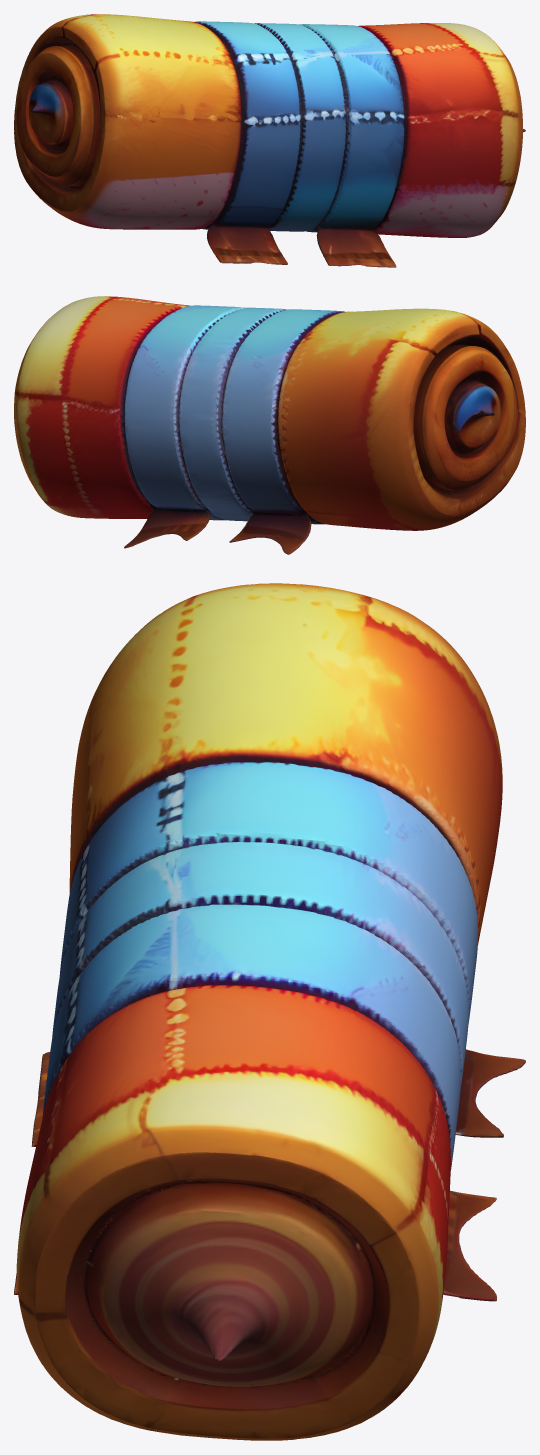
The model's file is Blanket.fbx.
3 renders of one model, top to bottom at view 1: azimuth 30°, elevation 25°; view 2: azimuth 150°, elevation 25°; view 3: azimuth 270°, elevation 25°, orthographic. The views are drawn at different scales.
Visible parts, largest first — view 1: Blanket; view 2: Blanket; view 3: Blanket.
Boxes of the visible parts, x1,y1,x2,y2 form: Blanket: (14, 14, 525, 267); Blanket: (14, 296, 525, 554); Blanket: (14, 583, 525, 1440).
Bounding box in the file's own units: 54.8 × 29.45 × 26.02.
